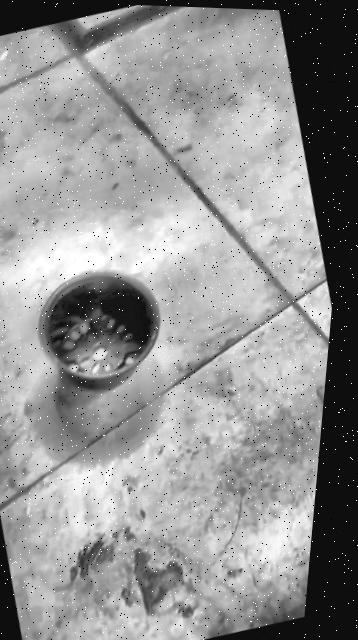pot: (20, 256, 179, 406)
